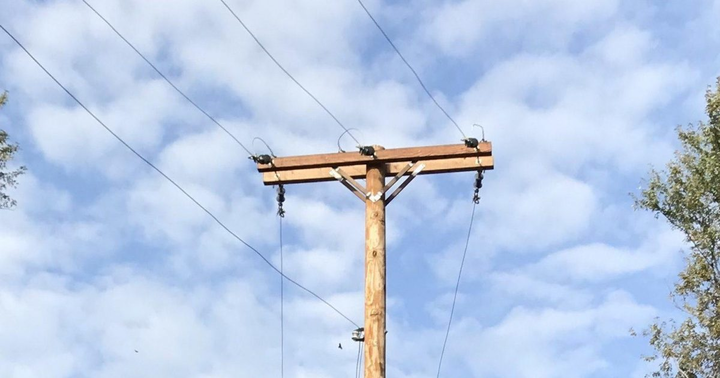utility_pole: (239, 118, 501, 257)
